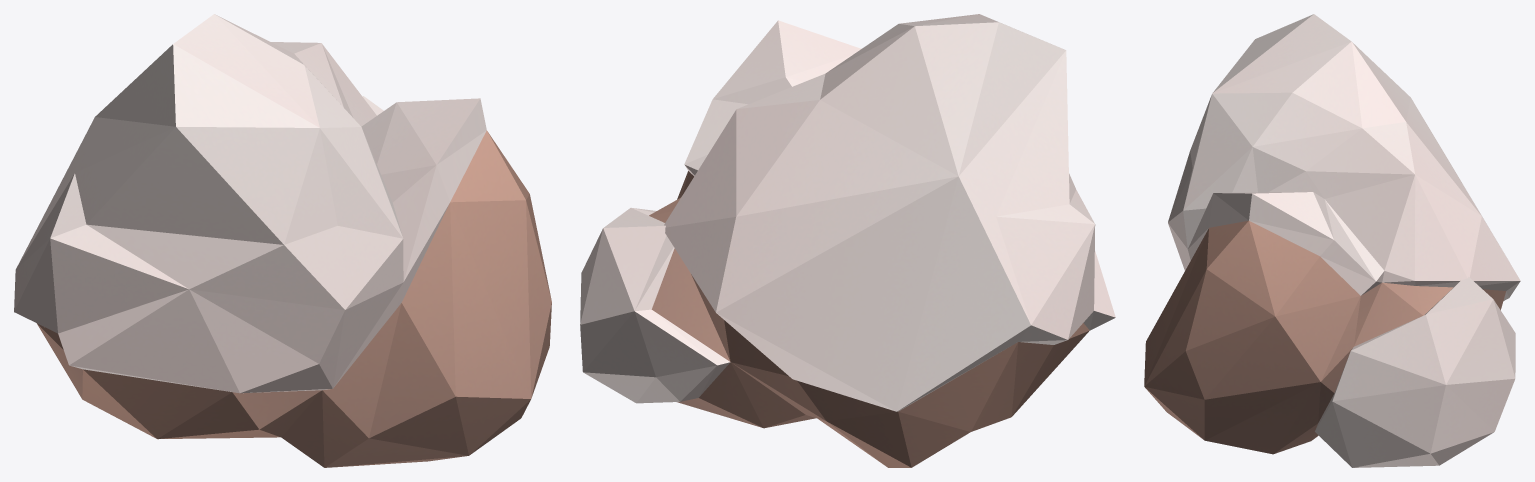
Rendered from Rock_Medium_2A.fbx.
3 views of the same model, side by side, from view 1: azimuth 30°, elevation 25°; view 2: azimuth 150°, elevation 25°; view 3: azimuth 270°, elevation 25° (orthographic). The views are drawn at different scales.
Parts seen in each view (by area): view 1: Group64598; view 2: Group64598; view 3: Group64598.
Boxes of the visible parts, left/top/right/bottom form: Group64598: left=14, top=14, right=551, bottom=467; Group64598: left=580, top=14, right=1115, bottom=467; Group64598: left=1144, top=14, right=1520, bottom=467.
Bounding box in the file's own units: 4.22 × 3.64 × 3.59.
Materials: 1 (1 with a texture image).
